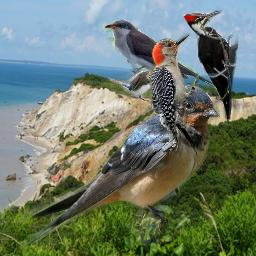Cuckoo: (103, 20, 226, 94)
Swallow: (19, 84, 220, 253), (108, 69, 169, 101)
Woodpecker: (146, 31, 199, 159), (183, 9, 238, 128)
